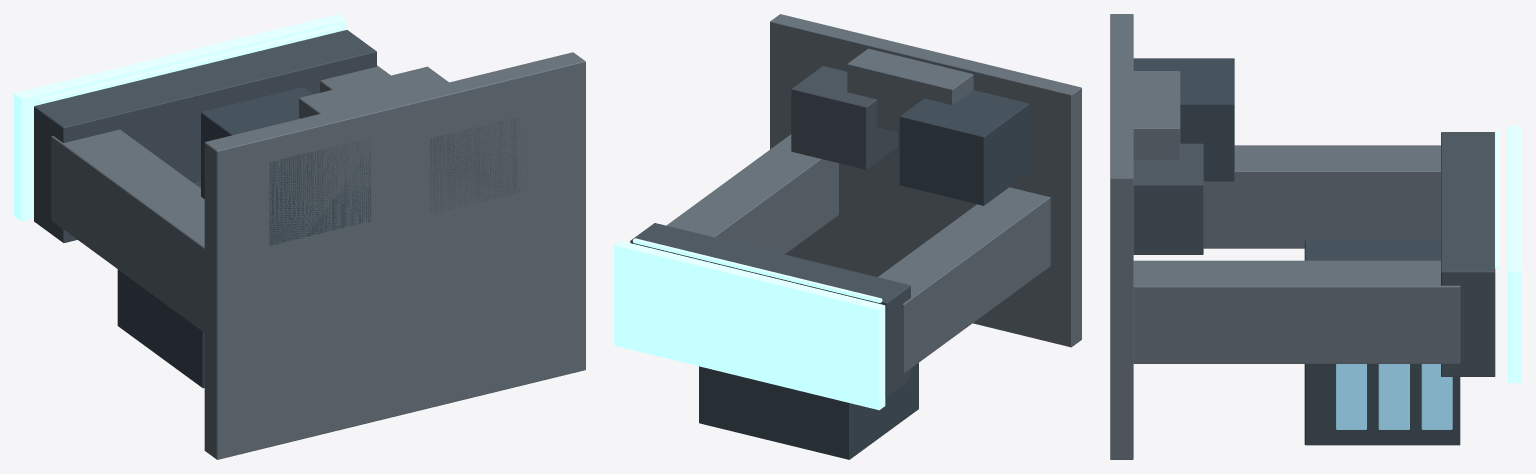
Rendered from mass_gantry_block_rift_l.glb.
3 renders of one model, left to right at view 1: azimuth 30°, elevation 25°; view 2: azimuth 150°, elevation 25°; view 3: azimuth 270°, elevation 25°, orthographic. The views are drawn at different scales.
Parts seen in each view (by area): view 1: FlightKit_MassGantry_rift_L; view 2: FlightKit_MassGantry_rift_L; view 3: FlightKit_MassGantry_rift_L.
Boxes of the visible parts, x1=… form: FlightKit_MassGantry_rift_L: x1=14, y1=14, x2=585, y2=459; FlightKit_MassGantry_rift_L: x1=614, y1=14, x2=1081, y2=459; FlightKit_MassGantry_rift_L: x1=1110, y1=14, x2=1521, y2=459.
Bounding box in the file's own units: 10 × 8.75 × 10.57.
